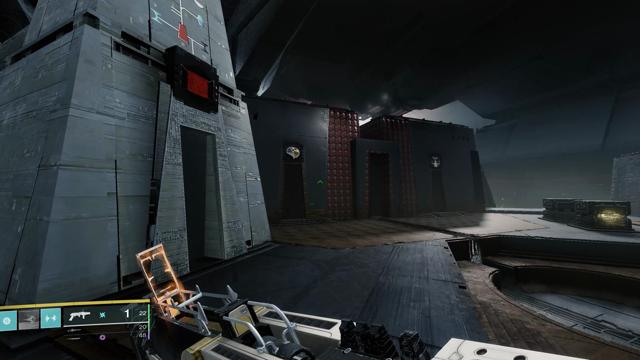brain: (284, 144, 301, 161)
drink: (430, 155, 441, 168)
stop: (180, 62, 212, 103)
